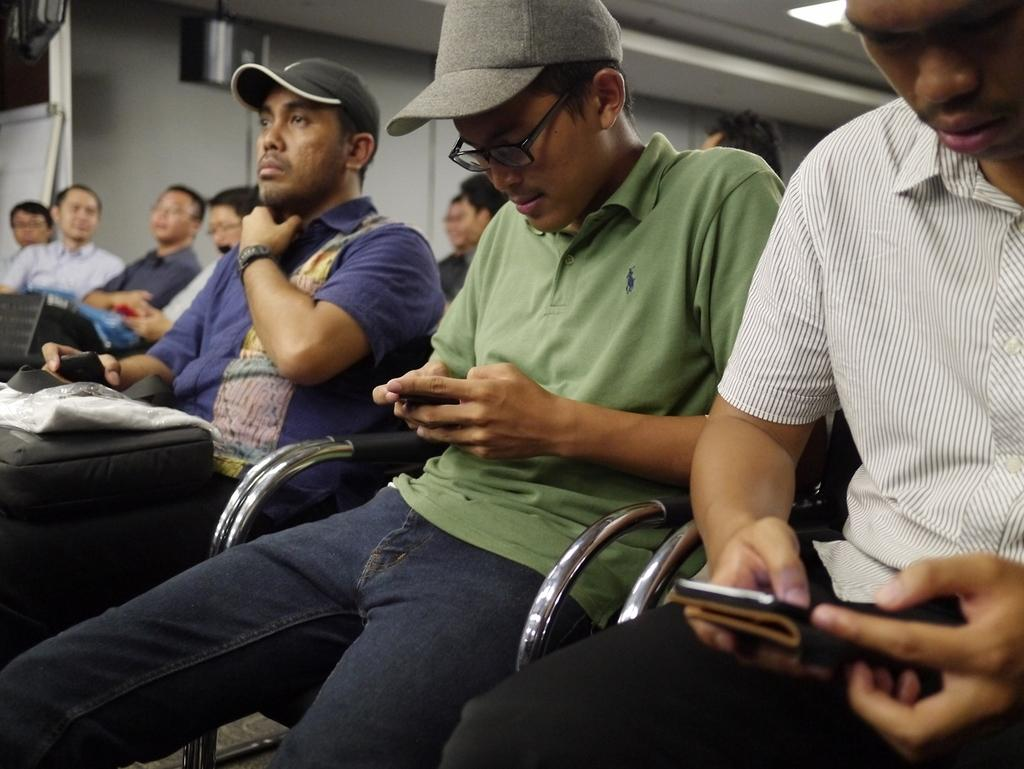Hat: (386, 0, 623, 138), (229, 53, 382, 149)
